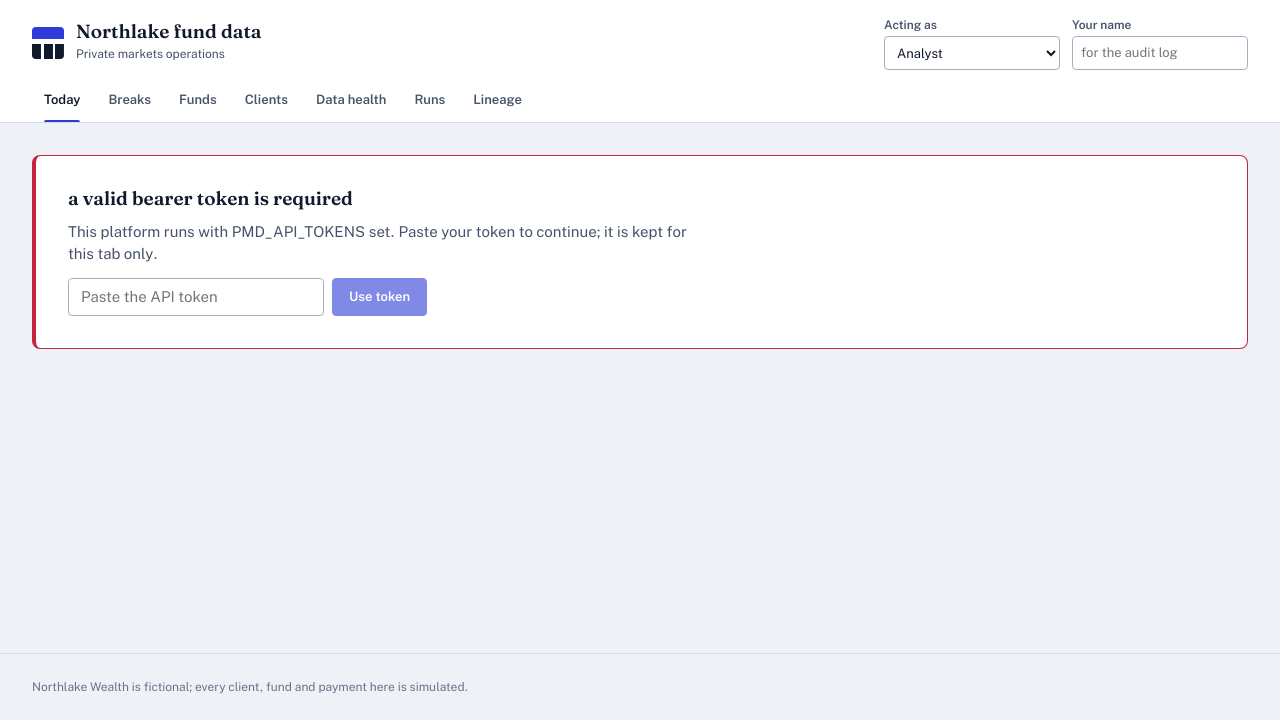
Test: today › asks for the API token when the API wants one and sends it from then on
This screenshot has width=1280, height=720.
Type "s3cret" into the password field labelled "API token" at (196, 297), box [68,278,324,316]
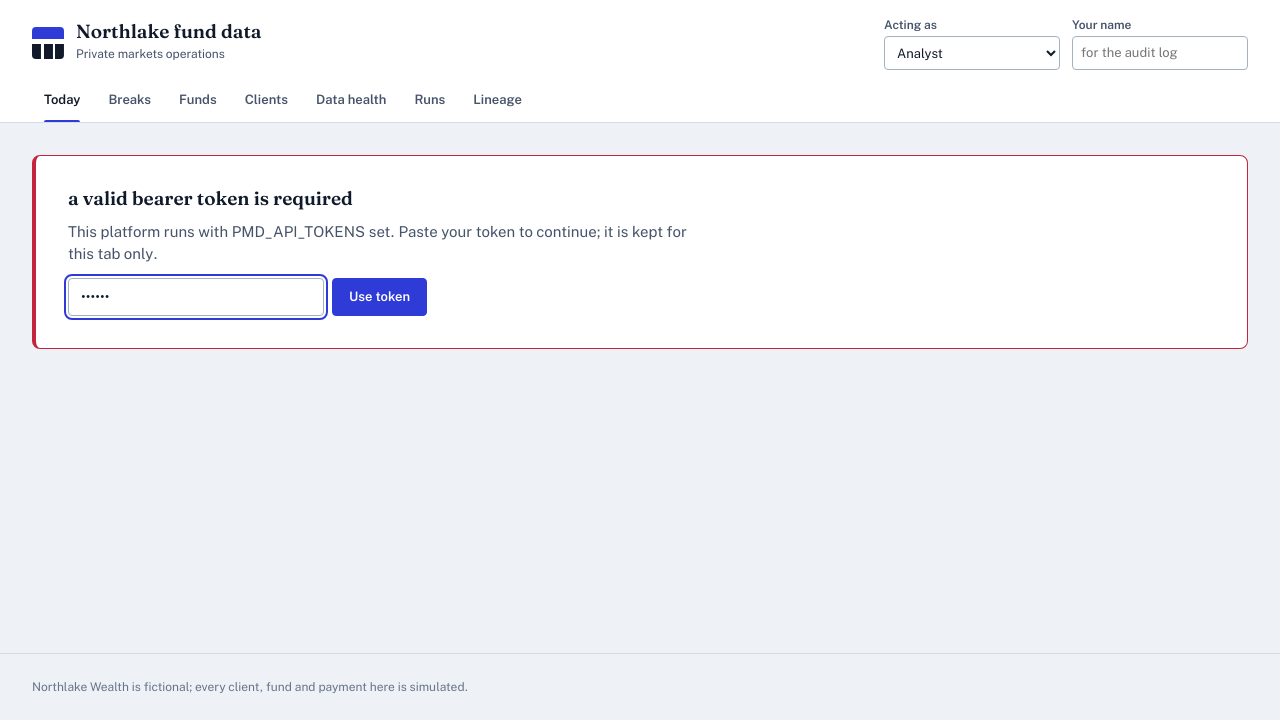
Click the button "Use token" at (380, 297), box [332,278,427,316]
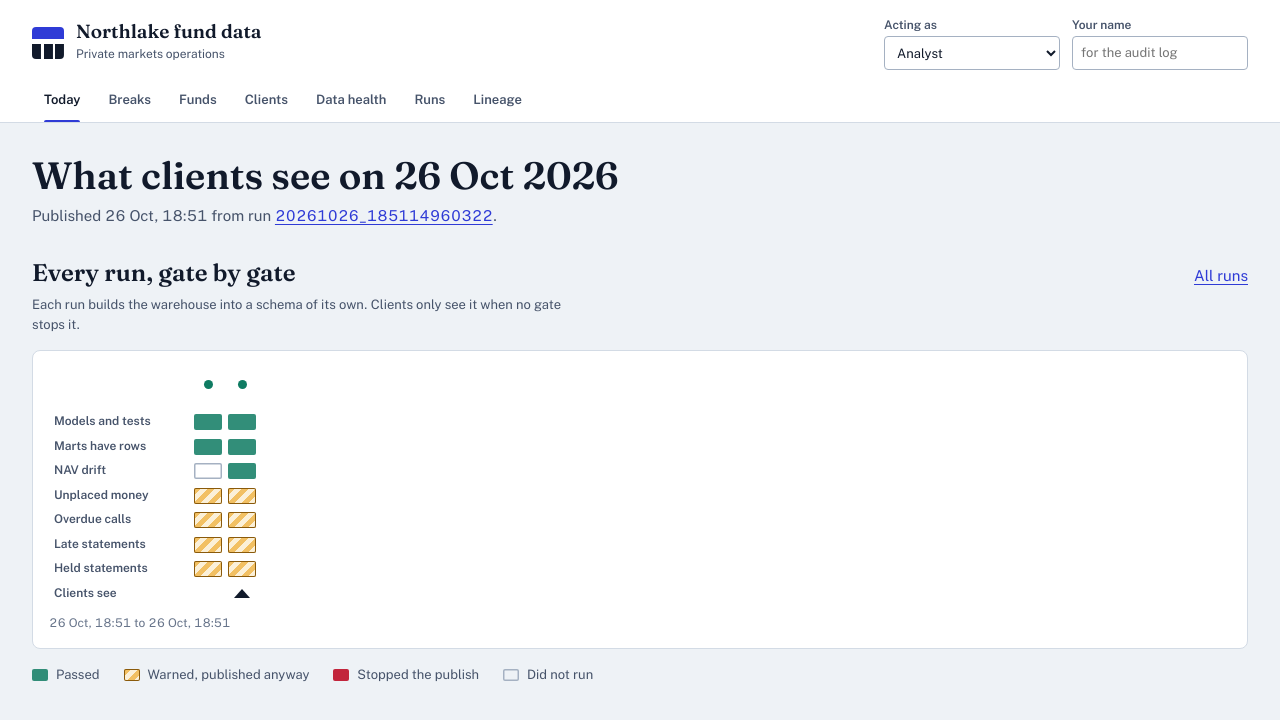
Check: the heading "What clients see on 26 Oct 2026" is shown, box [32,154,619,197]
